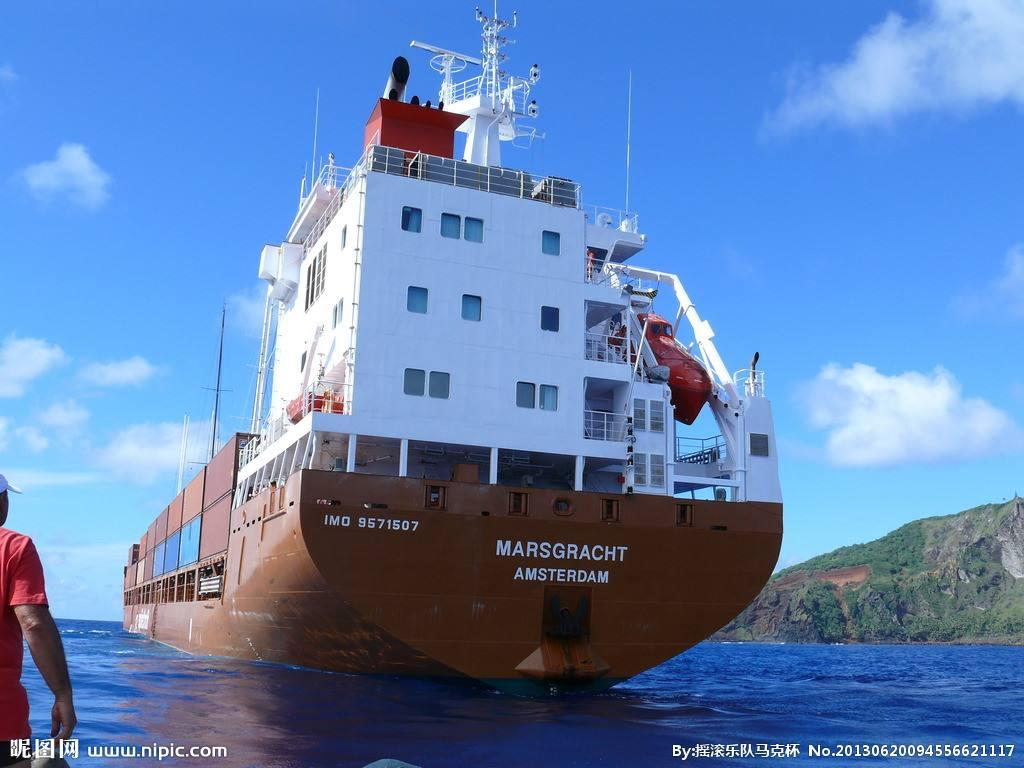Cargoship: (110, 23, 794, 662)
